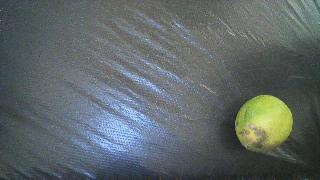DESECHO: (235, 95, 293, 152)
